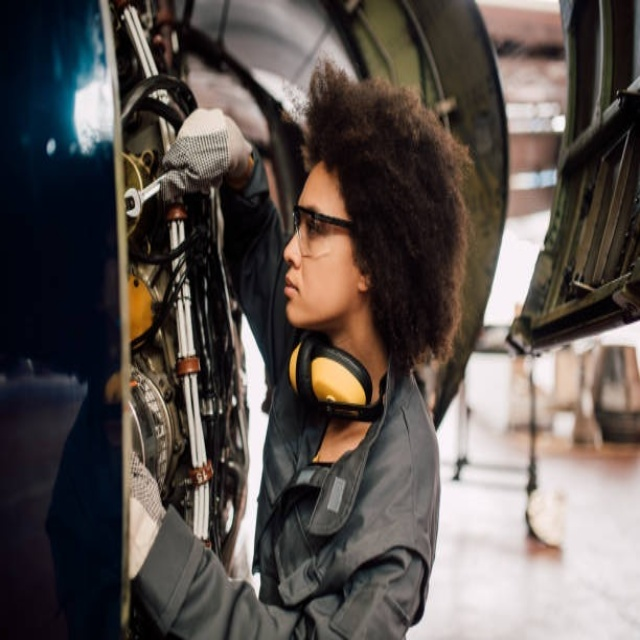Gafas: (291, 204, 357, 255)
Guantes: (158, 107, 253, 198), (126, 449, 164, 575)
Sin_mascara: (279, 257, 314, 318)
